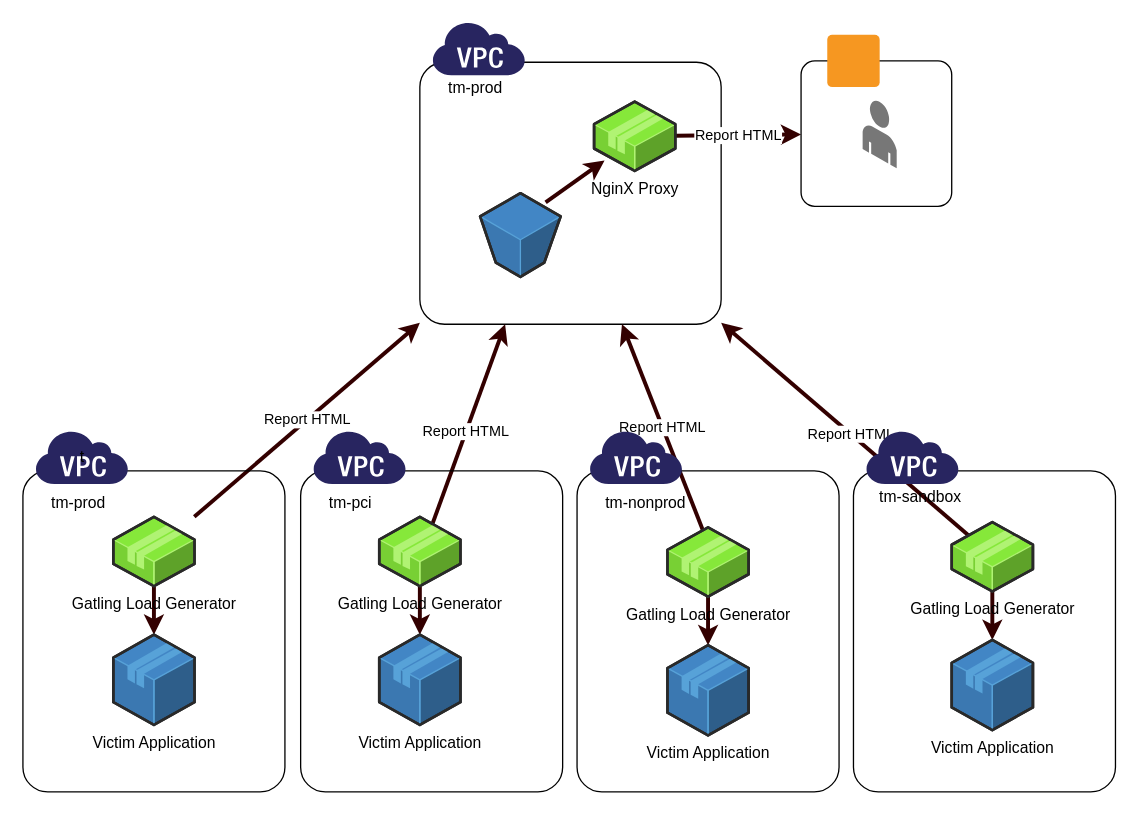
This 1138x815 diagram has some shape labels left out. Each missing label, with the box of its shape:
Engineers: (862, 100, 896, 168)
Reports Bucket: (479, 192, 561, 277)
VPN: (827, 34, 879, 86)
